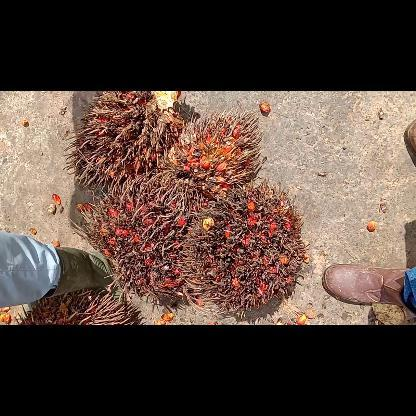Terlalu masak: (67, 164, 215, 306), (177, 178, 313, 320), (57, 90, 189, 196), (158, 106, 270, 204)
